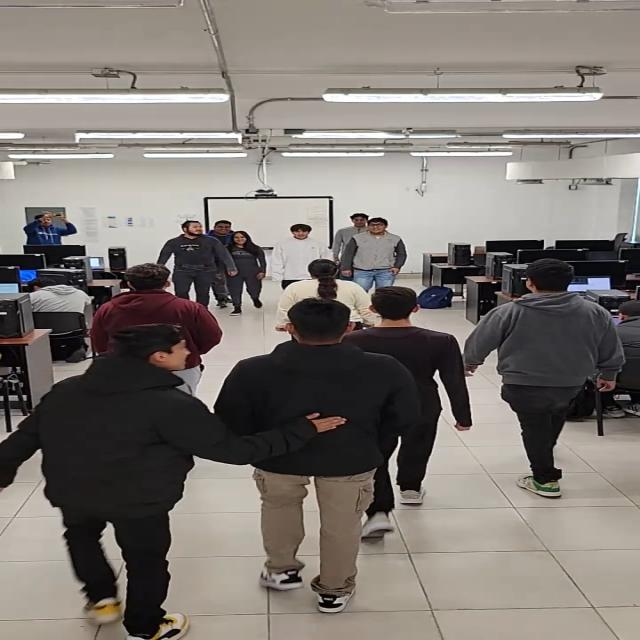Persona: (46, 320, 188, 634), (259, 301, 372, 607), (484, 256, 604, 484), (365, 288, 455, 527), (105, 262, 210, 326), (156, 220, 231, 304), (348, 220, 410, 288), (294, 253, 365, 310), (230, 230, 271, 312), (270, 224, 322, 274), (23, 208, 80, 249), (341, 214, 367, 232)
